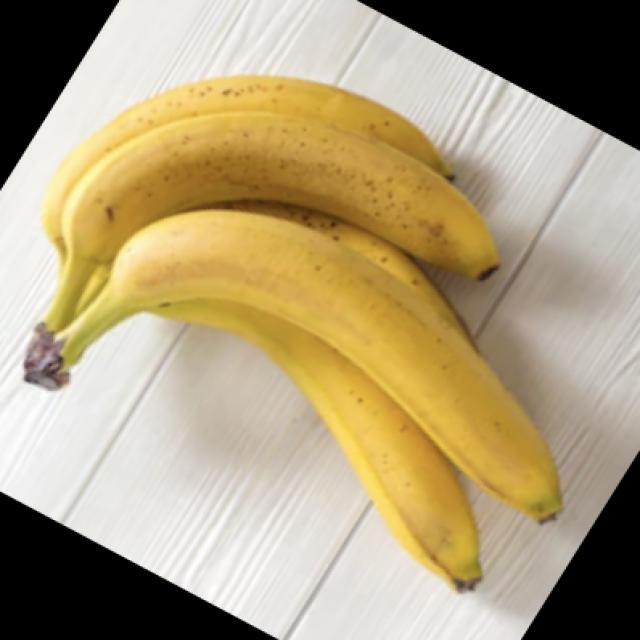god quality banana: (24, 76, 563, 590)
